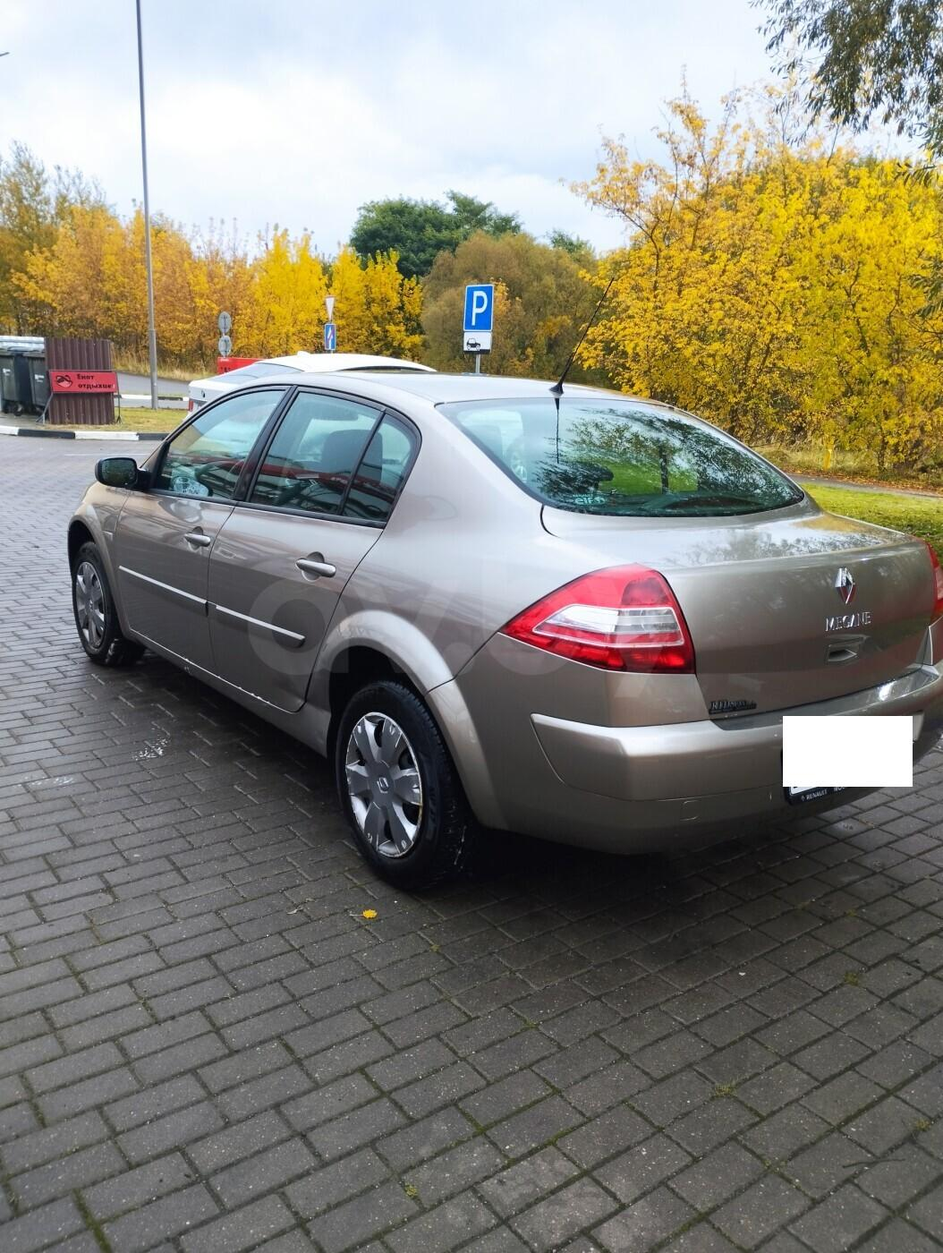Megane_2005-2009: (68, 353, 943, 875)
